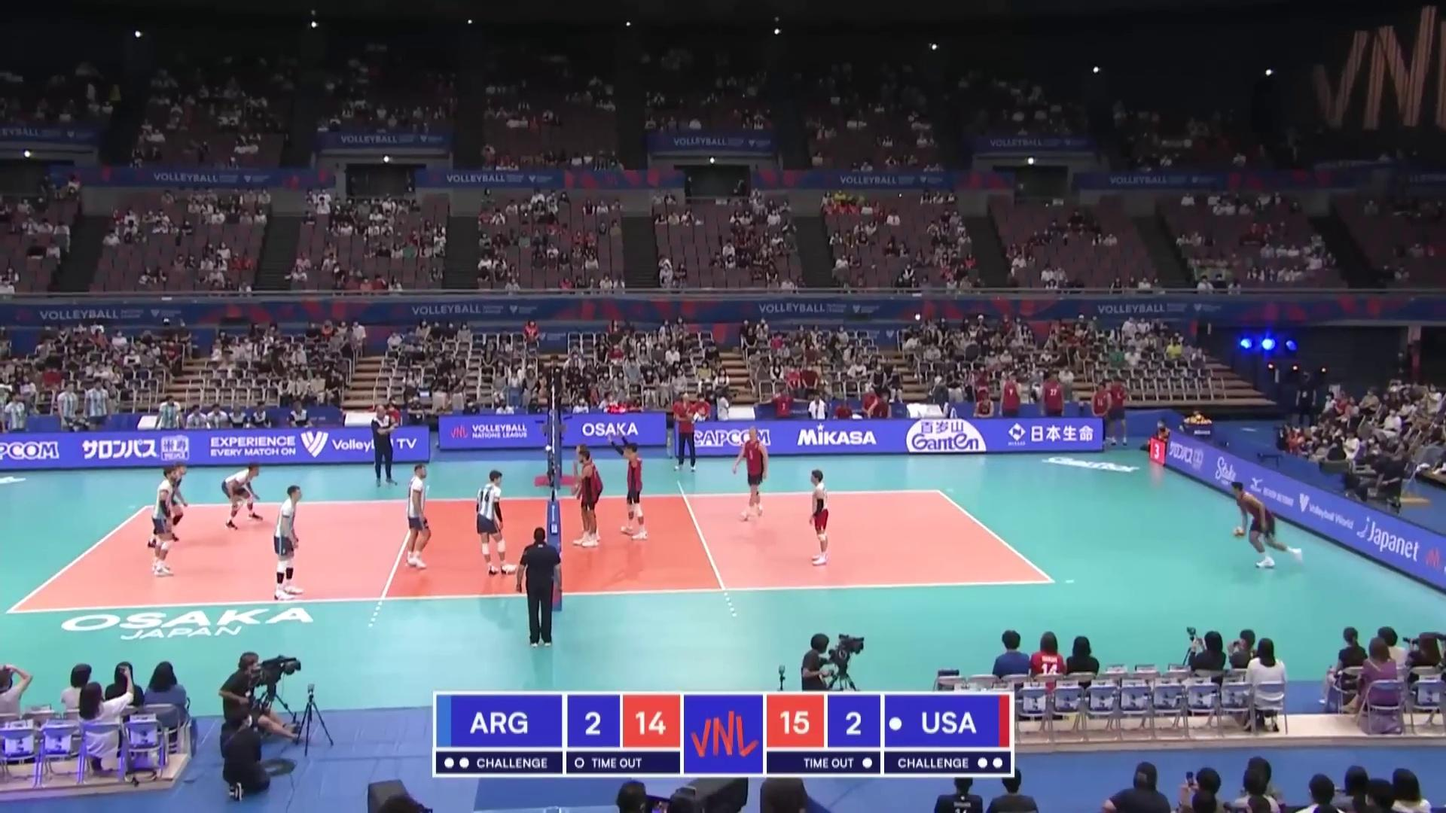player: (1225, 481, 1305, 573), (473, 470, 519, 576), (614, 435, 648, 538), (273, 484, 303, 599), (147, 464, 187, 547), (734, 427, 768, 521), (402, 463, 432, 568), (151, 468, 179, 576), (572, 445, 603, 538), (574, 450, 603, 549), (220, 463, 264, 528), (808, 469, 834, 565)
refree: (516, 526, 560, 645), (541, 355, 568, 436)
